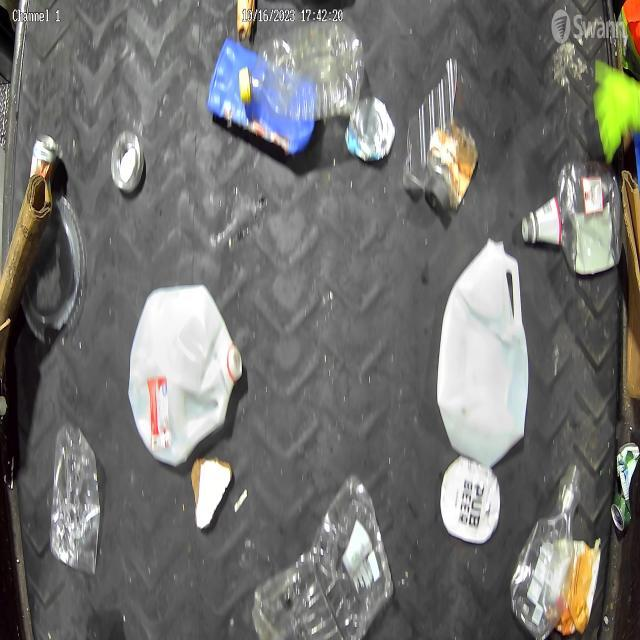can: (610, 436, 640, 537), (106, 128, 148, 200)
milk_jug: (436, 236, 530, 464), (130, 284, 244, 470)
plastic_bottle: (238, 19, 364, 122)
